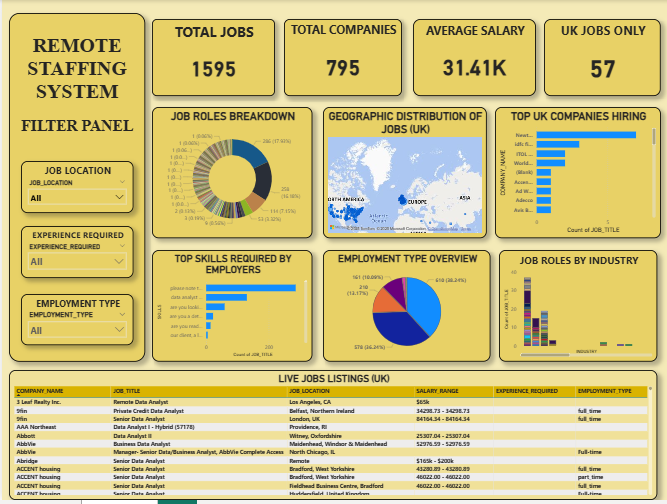

The page's visual inventory and layout, read from the dashboard file:
{"tool":"powerbi","page":{"name":"Page 1","canvas":[1600,1200],"ordinal":0},"visuals":[{"type":"card","title":"TOTAL JOBS","fields":{"Values":["CountNonNull(JOB_DATA_DEDUPE.JOB_TITLE)"]},"box":[361,46.3,295.1,185.4],"z":1000},{"type":"card","title":"TOTAL COMPANIES","fields":{"Values":["Count(JOB_DATA_DEDUPE.COMPANY_NAME)"]},"box":[675.6,46.3,282.9,185.4],"z":2000},{"type":"card","title":"AVERAGE SALARY","fields":{"Values":["Avg(JOB_DATA_DEDUPE.SALARY_MIN)"]},"box":[985.4,46.3,295.1,185.4],"z":3000},{"type":"clusteredBarChart","title":"TOP UK COMPANIES HIRING","fields":{"Category":["JOB_DATA_DEDUPE.COMPANY_NAME"],"Y":["CountNonNull(JOB_DATA_DEDUPE.JOB_TITLE)"]},"box":[1182.9,256.1,397.6,314.6],"z":4000},{"type":"clusteredBarChart","title":"TOP SKILLS REQUIRED BY EMPLOYERS","fields":{"Category":["JOB_DATA_DEDUPE.SKILLS"],"Y":["CountNonNull(JOB_DATA_DEDUPE.JOB_TITLE)"]},"box":[361,600,385.4,268.3],"z":5000},{"type":"columnChart","title":" JOB ROLES BY INDUSTRY ","fields":{"Category":["JOB_DATA_DEDUPE.INDUSTRY"],"Series":["JOB_DATA_DEDUPE.JOB_TITLE"],"Y":["CountNonNull(JOB_DATA_DEDUPE.JOB_TITLE)"]},"box":[1192.7,600,380.5,268.3],"z":6000},{"type":"donutChart","title":"JOB ROLES BREAKDOWN","fields":{"Y":["CountNonNull(JOB_DATA_DEDUPE.JOB_TITLE)"],"Category":["JOB_DATA_DEDUPE.JOB_TITLE"]},"box":[361,256.1,385.4,314.6],"z":7000},{"type":"pieChart","title":"EMPLOYMENT TYPE  OVERVIEW","fields":{"Category":["JOB_DATA_DEDUPE.EMPLOYMENT_TYPE"],"Y":["CountNonNull(JOB_DATA_DEDUPE.JOB_TITLE)"]},"box":[770.7,600,402.4,268.3],"z":8000},{"type":"map","title":"GEOGRAPHIC DISTRIBUTION OF JOBS (UK)","fields":{"Category":["JOB_DATA_DEDUPE.JOB_LOCATION"],"Size":["CountNonNull(JOB_DATA_DEDUPE.JOB_TITLE)"]},"box":[770.7,256.1,392.7,314.6],"z":9000},{"type":"tableEx","title":"LIVE JOBS LISTINGS (UK)","fields":{"Values":["JOB_DATA_DEDUPE.COMPANY_NAME","JOB_DATA_DEDUPE.JOB_TITLE","JOB_DATA_DEDUPE.JOB_LOCATION","JOB_DATA_DEDUPE.SALARY_RANGE","JOB_DATA_DEDUPE.EXPERIENCE_REQUIRED","JOB_DATA_DEDUPE.EMPLOYMENT_TYPE"]},"box":[17.1,887.8,1556.1,312.2],"z":11000},{"type":"card","title":"UK JOBS ONLY","fields":{"Values":["CountNonNull(JOB_DATA_DEDUPE.JOB_TITLE)"]},"box":[1300,46.3,280.5,185.4],"z":12000},{"type":"textbox","box":[17.1,31.7,326.8,836.6],"z":13000},{"type":"slicer","title":"JOB LOCATION","fields":{"Values":["JOB_DATA_DEDUPE.JOB_LOCATION"]},"box":[45,387.5,270,125],"z":14000},{"type":"slicer","title":"EXPERIENCE REQUIRED","fields":{"Values":["JOB_DATA_DEDUPE.EXPERIENCE_REQUIRED"]},"box":[45,542.5,270,125],"z":15000},{"type":"slicer","title":"EMPLOYMENT TYPE","fields":{"Values":["JOB_DATA_DEDUPE.EMPLOYMENT_TYPE"]},"box":[45,705,270,122.5],"z":16000}]}

Visuals, with their boxes in screenshot pixels (x1, y1, x2, y2), scaled from the page's 1600x1200 canvas onto the 667x504 screenshot:
"TOTAL JOBS" card: (150,19,274,97)
"TOTAL COMPANIES" card: (282,19,400,97)
"AVERAGE SALARY" card: (411,19,534,97)
"TOP UK COMPANIES HIRING" clusteredBarChart: (493,108,659,240)
"TOP SKILLS REQUIRED BY EMPLOYERS" clusteredBarChart: (150,252,311,365)
" JOB ROLES BY INDUSTRY " columnChart: (497,252,656,365)
"JOB ROLES BREAKDOWN" donutChart: (150,108,311,240)
"EMPLOYMENT TYPE  OVERVIEW" pieChart: (321,252,489,365)
"GEOGRAPHIC DISTRIBUTION OF JOBS (UK)" map: (321,108,485,240)
"LIVE JOBS LISTINGS (UK)" tableEx: (7,373,656,503)
"UK JOBS ONLY" card: (542,19,659,97)
textbox: (7,13,143,365)
"JOB LOCATION" slicer: (19,163,131,215)
"EXPERIENCE REQUIRED" slicer: (19,228,131,280)
"EMPLOYMENT TYPE" slicer: (19,296,131,348)
